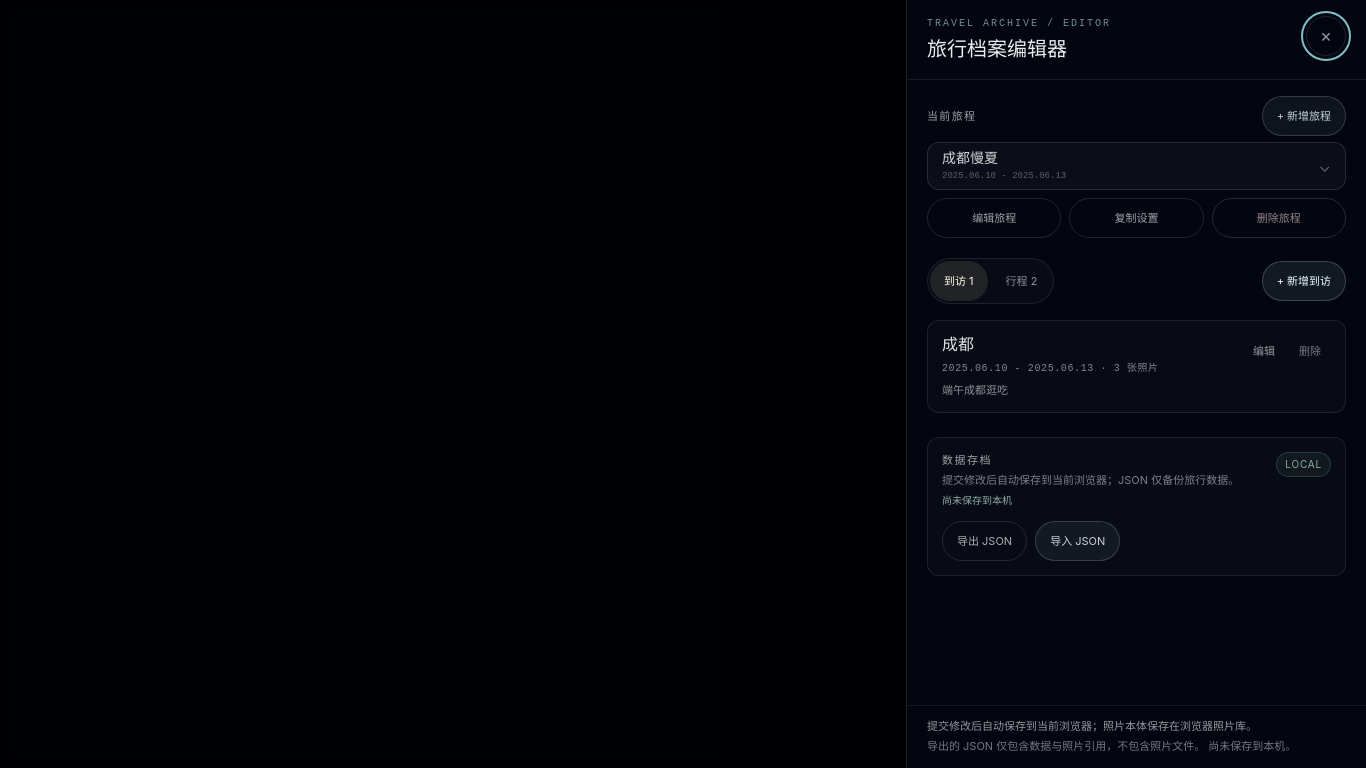
TravelEditor › closes the journey picker before closing the editor on Escape
Click the button with aria-label "当前旅程：成都慢夏": (970, 158) [927, 142, 1346, 190]
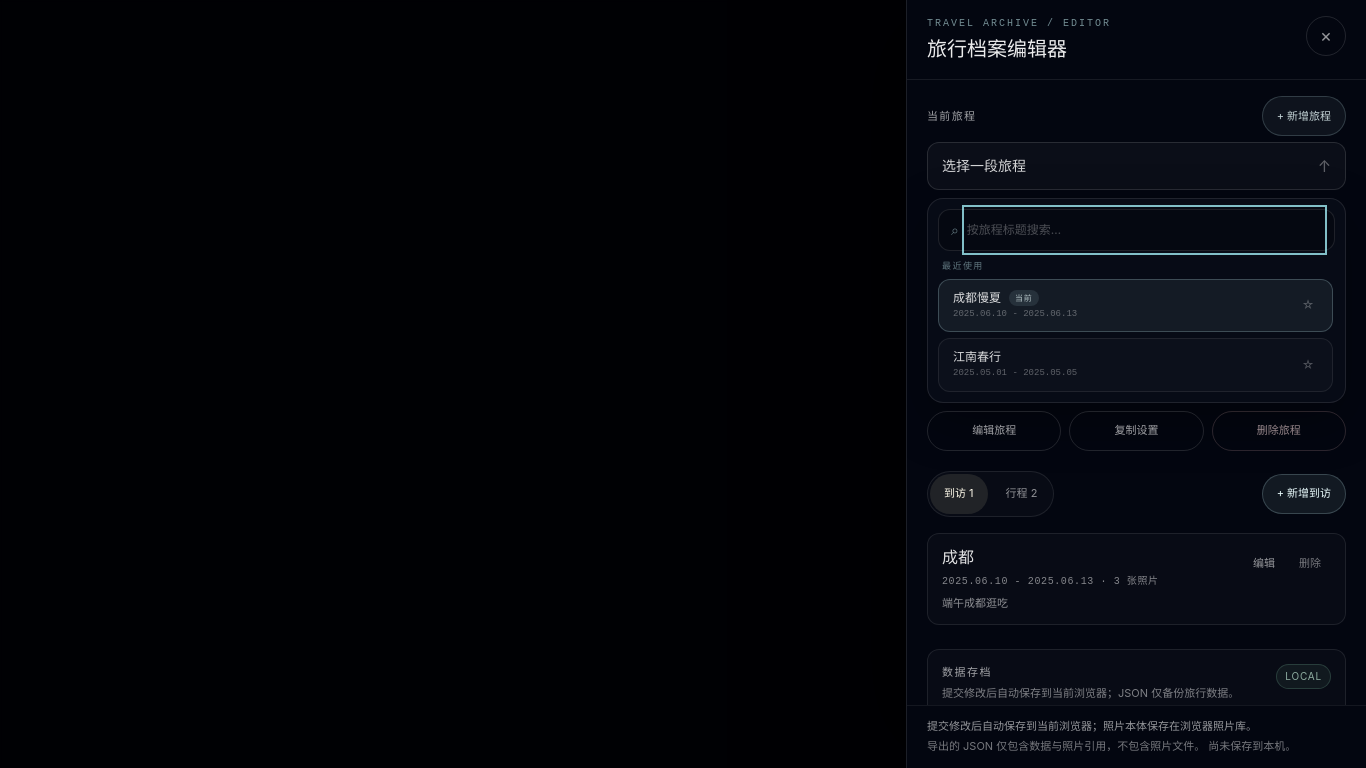
Press Escape
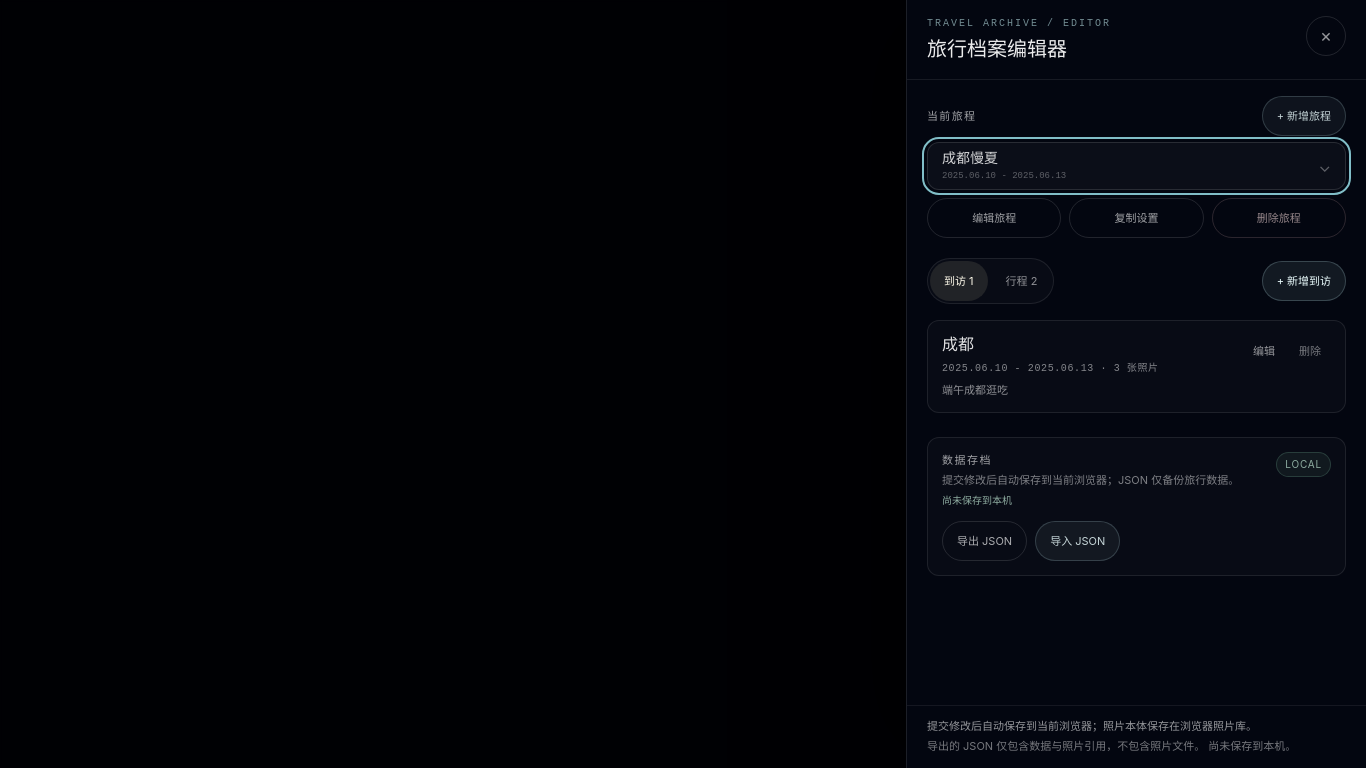
Expected: the dialog "旅行档案编辑器" is shown, [906, 0, 1365, 767]
Result: the search field labelled "搜索旅程" is gone
